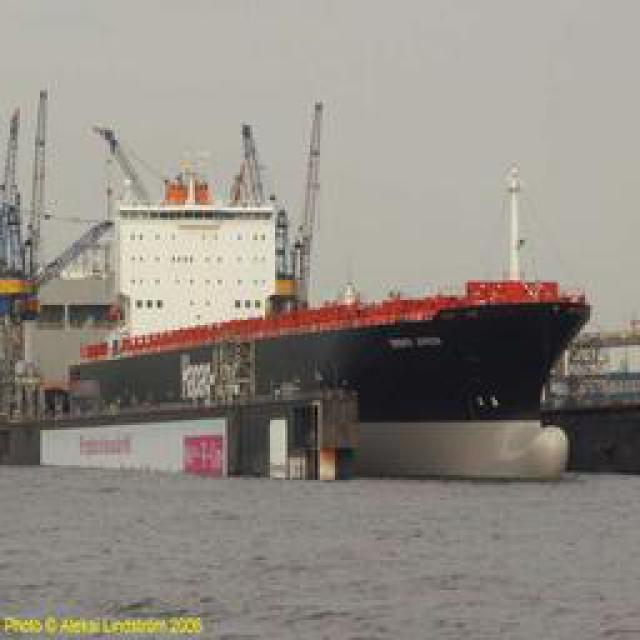Ship: (32, 93, 592, 441)
